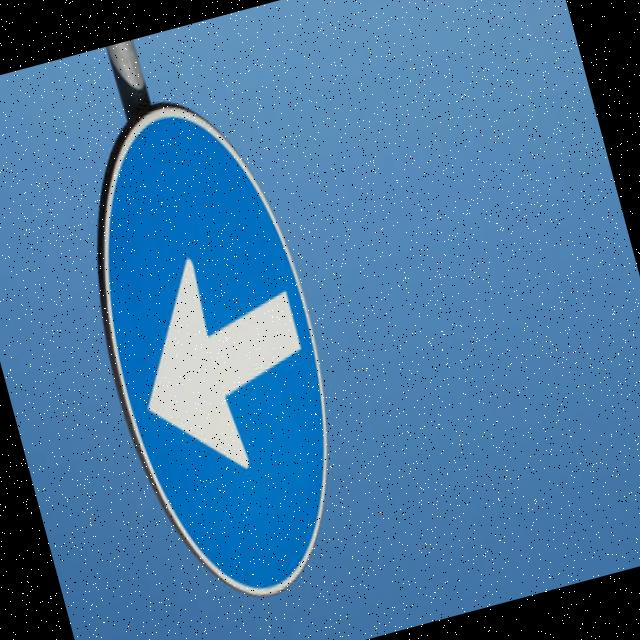compulsory_keep_right: (45, 76, 384, 625)
